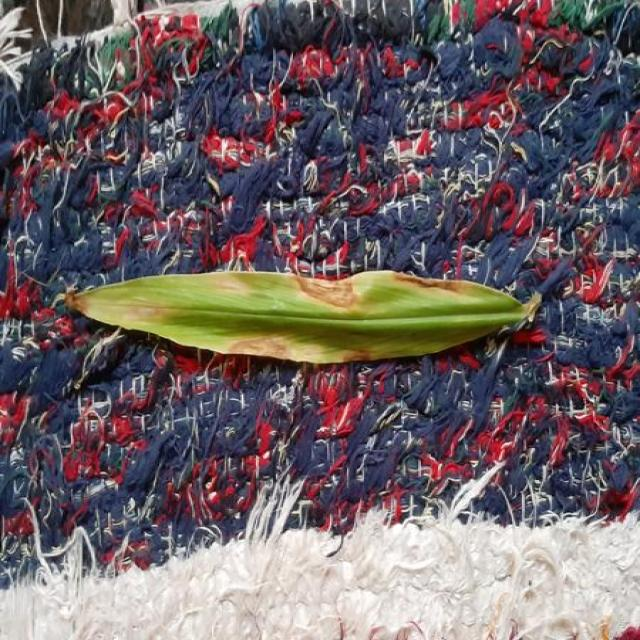bacterial wilt: (73, 271, 474, 363)
ginger: (65, 270, 540, 363)
